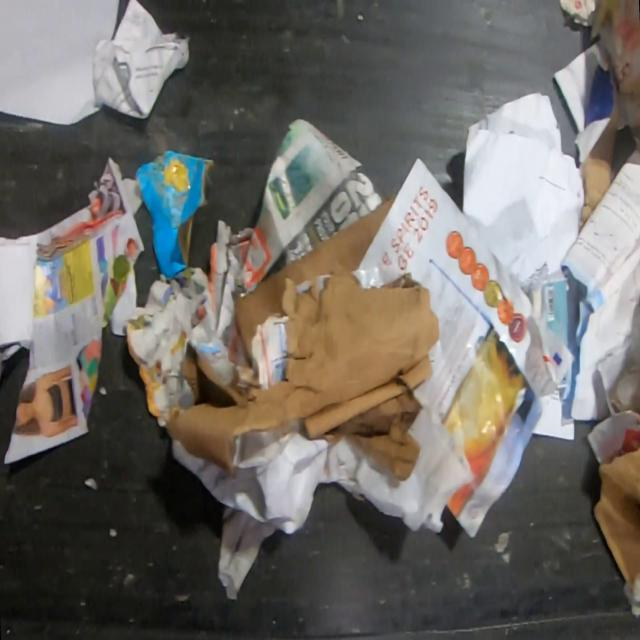cardboard: (164, 198, 440, 483), (585, 328, 640, 584), (133, 148, 216, 282), (578, 85, 636, 226)
